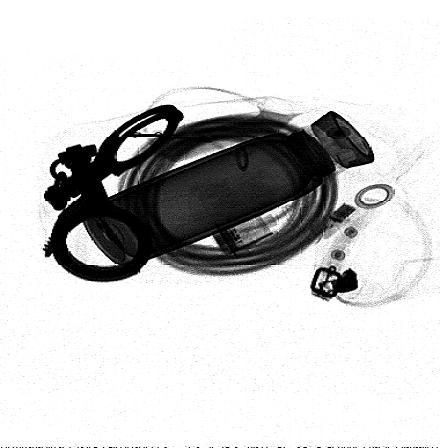HandCuffs: (43, 104, 185, 282)
